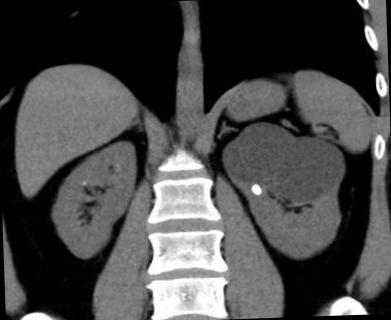Tas_Var: (249, 182, 263, 198), (79, 180, 90, 187)
